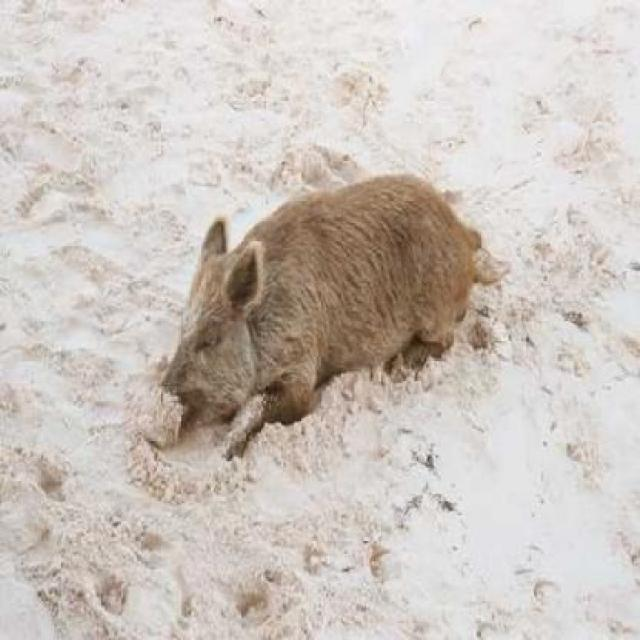pig: (143, 177, 510, 447)
